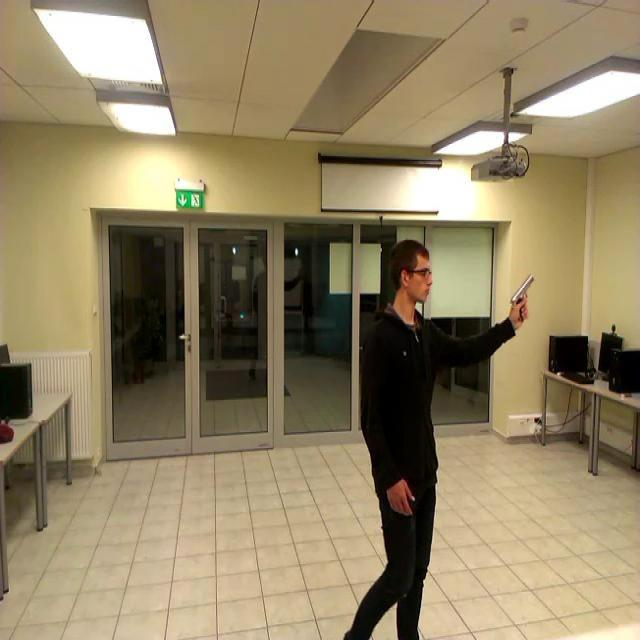weapon: (510, 275, 535, 323)
